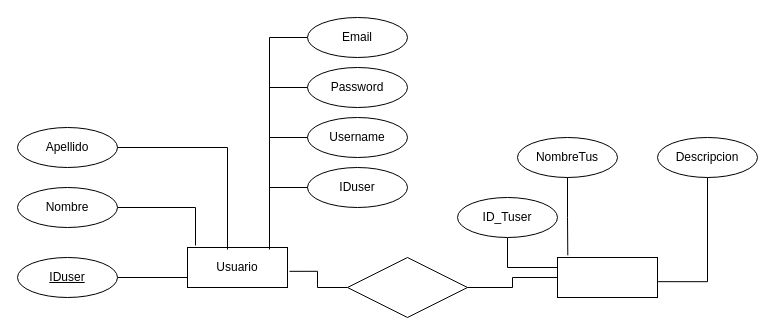
This 775x335 diagram has some shape labels left out. Each missing label, with the centre of its shape:
"Tiene" goes at point 407,287.
"TipoUser" goes at point 607,277.
